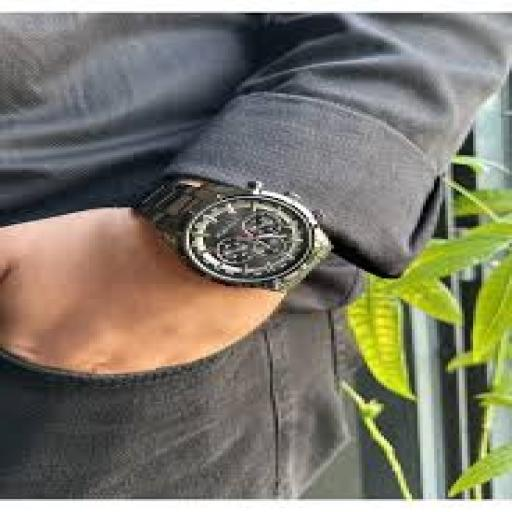KolSaati: (119, 167, 348, 297)
